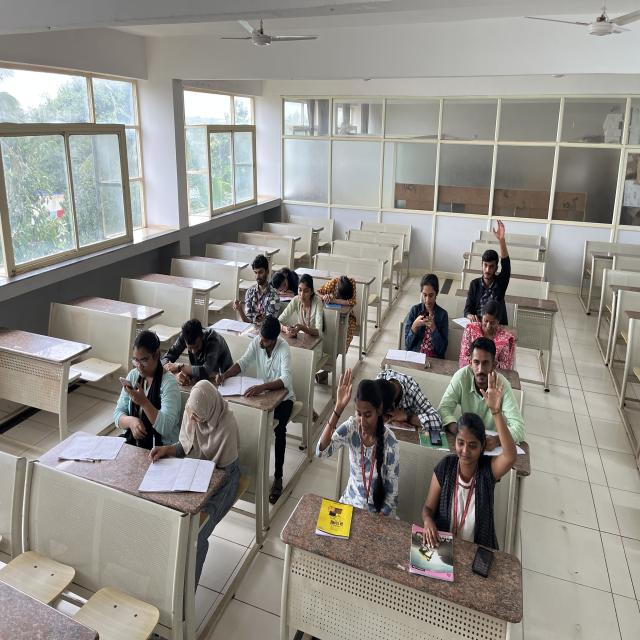Reading: (460, 216, 514, 299)
Using Phone: (403, 271, 449, 358)
